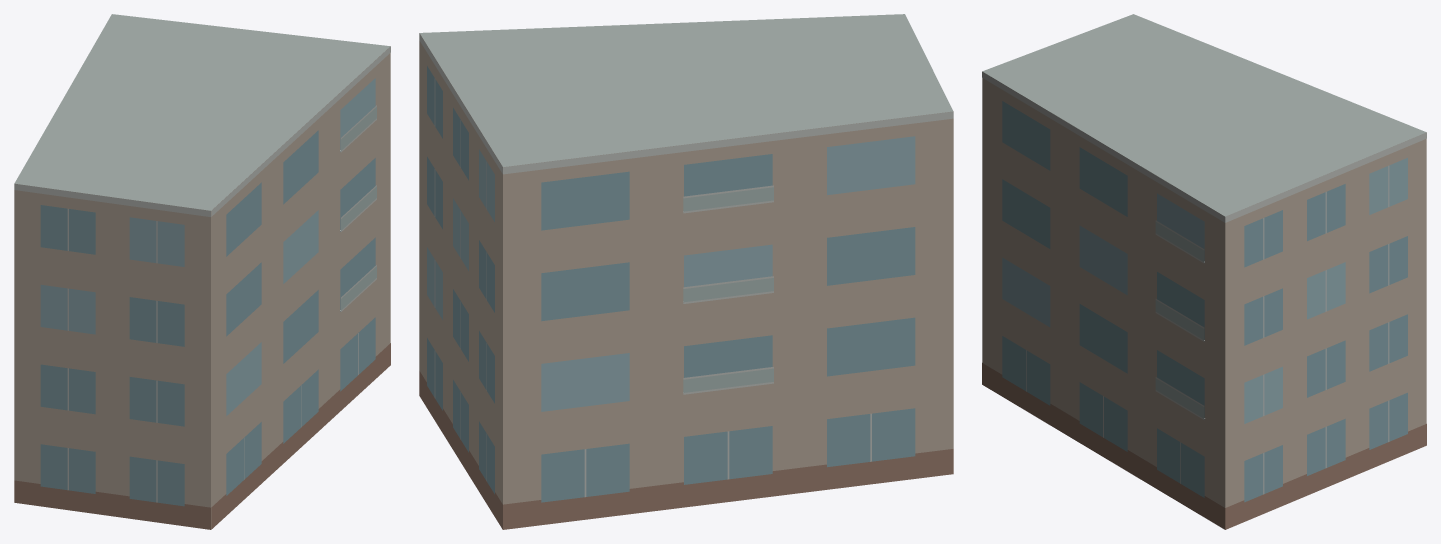
The model's file is residential-0b51a72d-e2af-4057-8888-c94f7dec287b.glb.
3 views of the same model, side by side, from view 1: azimuth 30°, elevation 25°; view 2: azimuth 150°, elevation 25°; view 3: azimuth 270°, elevation 25° (orthographic). The views are drawn at different scales.
Parts seen in each view (by area): view 1: residential-0b51a72d-e2af-4057-8888-c94f7dec287b.tmp; view 2: residential-0b51a72d-e2af-4057-8888-c94f7dec287b.tmp; view 3: residential-0b51a72d-e2af-4057-8888-c94f7dec287b.tmp.
Part boxes in pixels (x1,y1,x2,y2): residential-0b51a72d-e2af-4057-8888-c94f7dec287b.tmp: (14,14,390,529); residential-0b51a72d-e2af-4057-8888-c94f7dec287b.tmp: (419,14,953,529); residential-0b51a72d-e2af-4057-8888-c94f7dec287b.tmp: (982,14,1426,529).
Size of the model in its own units: 16.94 by 12.2 by 15.71.
